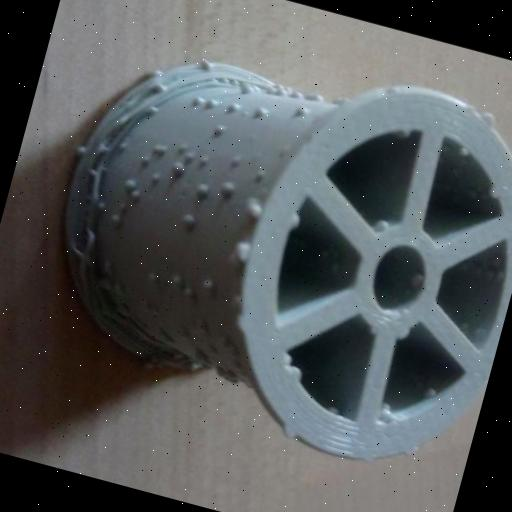blobs: (231, 234, 260, 268), (276, 418, 300, 445), (197, 272, 222, 296), (179, 210, 204, 234), (243, 196, 266, 222), (218, 176, 242, 200), (119, 168, 142, 193), (190, 176, 212, 201), (70, 138, 92, 162), (478, 106, 502, 128), (286, 361, 306, 387), (371, 212, 394, 234), (212, 118, 234, 138), (454, 138, 474, 160), (284, 210, 305, 230), (150, 76, 170, 97), (105, 205, 125, 226), (294, 100, 315, 120), (308, 85, 328, 106), (234, 78, 256, 97), (206, 92, 224, 114), (168, 154, 188, 173), (228, 149, 246, 170), (486, 178, 504, 199), (164, 270, 184, 288), (145, 98, 163, 118), (254, 103, 272, 121), (200, 53, 218, 71), (152, 136, 170, 154), (291, 86, 309, 104), (422, 380, 440, 398), (189, 91, 206, 110), (226, 98, 242, 118), (150, 62, 170, 78), (197, 150, 214, 167), (148, 166, 164, 184), (127, 186, 143, 202)
